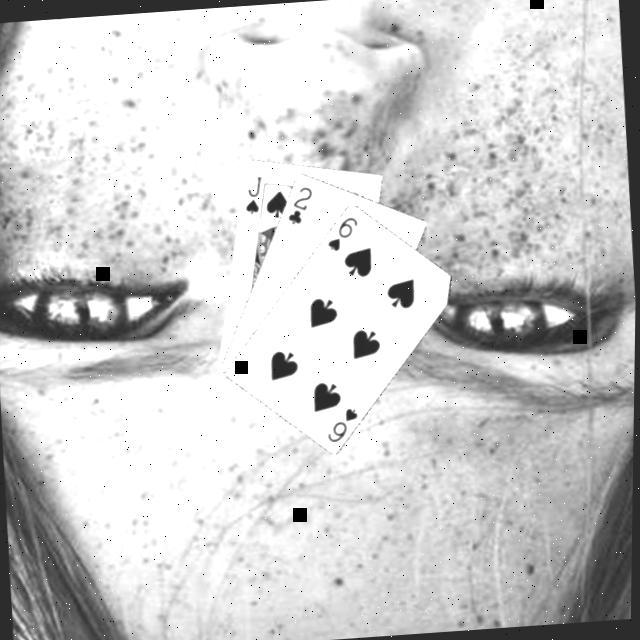2C: (283, 183, 319, 228)
6S: (323, 404, 365, 446), (324, 213, 364, 255)
JS: (240, 173, 268, 218)
